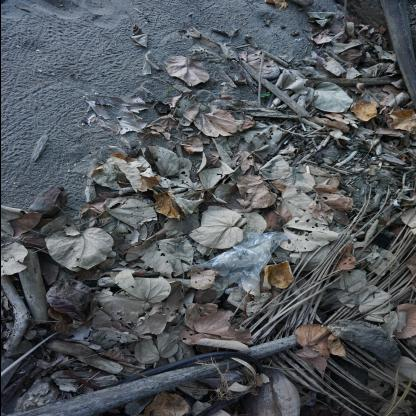plastik: (203, 231, 294, 289)
